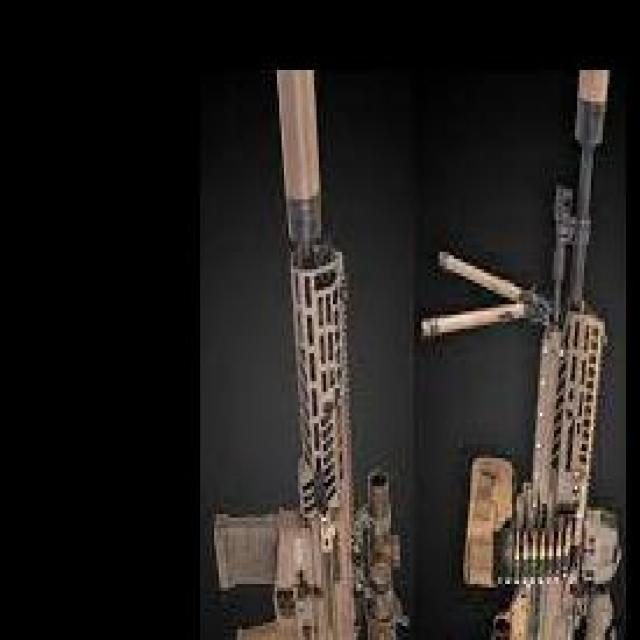weapon: (419, 71, 623, 640), (212, 68, 410, 640)
